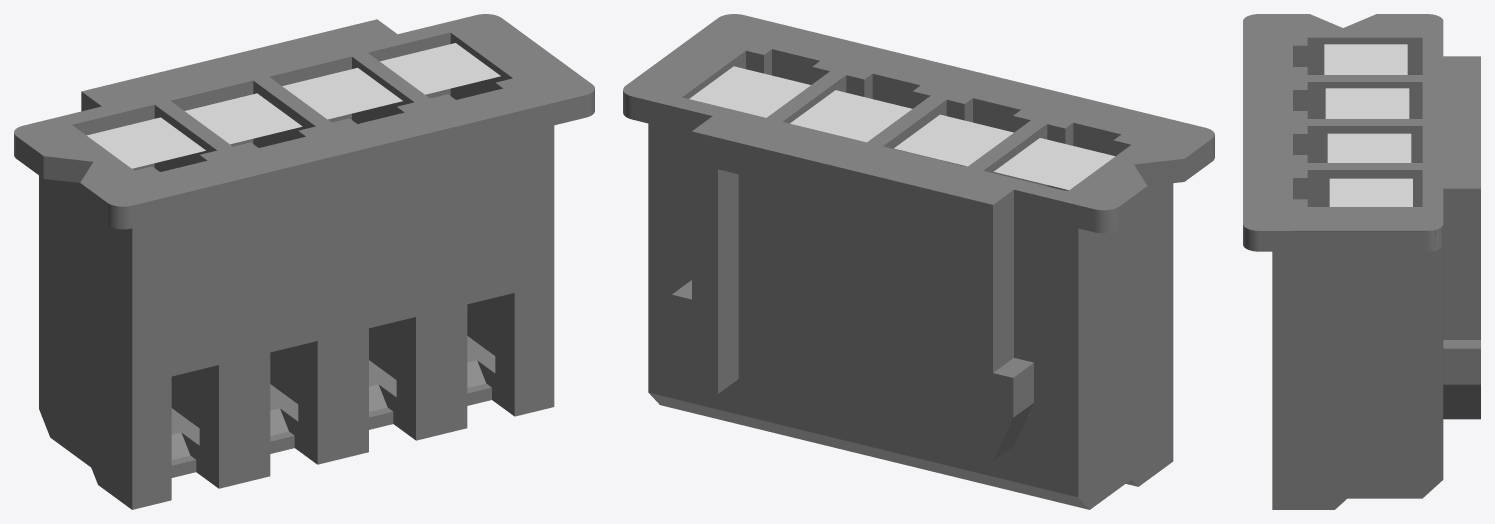
Rendered from xhp_41.glb.
3 renders of one model, left to right at view 1: azimuth 30°, elevation 25°; view 2: azimuth 150°, elevation 25°; view 3: azimuth 270°, elevation 25°, orthographic. The views are drawn at different scales.
Visible parts, largest first — view 1: Body5, pin4, pin3, pin1, pin2; view 2: Body5, pin3, pin1, pin4, pin2; view 3: Body5, pin2, pin1, pin3, pin4.
Part boxes in pixels (x1,y1,x2,y2): Body5: (14,14,594,509); pin4: (380,43,500,94); pin3: (282,67,402,119); pin1: (86,117,205,168); pin2: (185,93,302,144); Body5: (623,14,1214,509); pin3: (790,90,911,142); pin1: (994,138,1114,189); pin4: (689,66,810,117); pin2: (894,114,1013,166); Body5: (1243,14,1480,509); pin2: (1325,88,1409,118); pin1: (1324,44,1407,74); pin3: (1327,133,1411,162); pin4: (1329,178,1412,206).
Size of the model in its own units: 12.3 by 7.75 by 5.7.
Materials: 1 (1 with a texture image).
